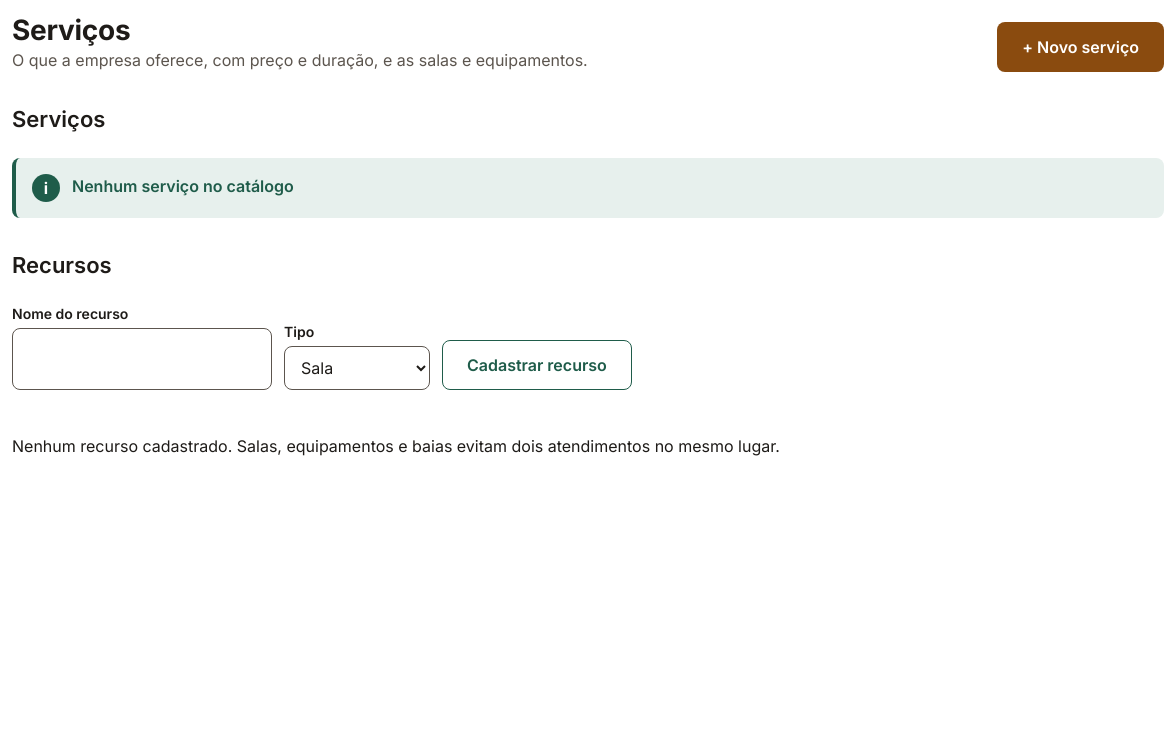
Scenario: UC-38 · Catálogo na web › CT-38-01: deve cadastrar o banho com preço e duração e deixá-lo ativo
Click the button "+ Novo serviço" at (1081, 47), box [997, 22, 1164, 72]
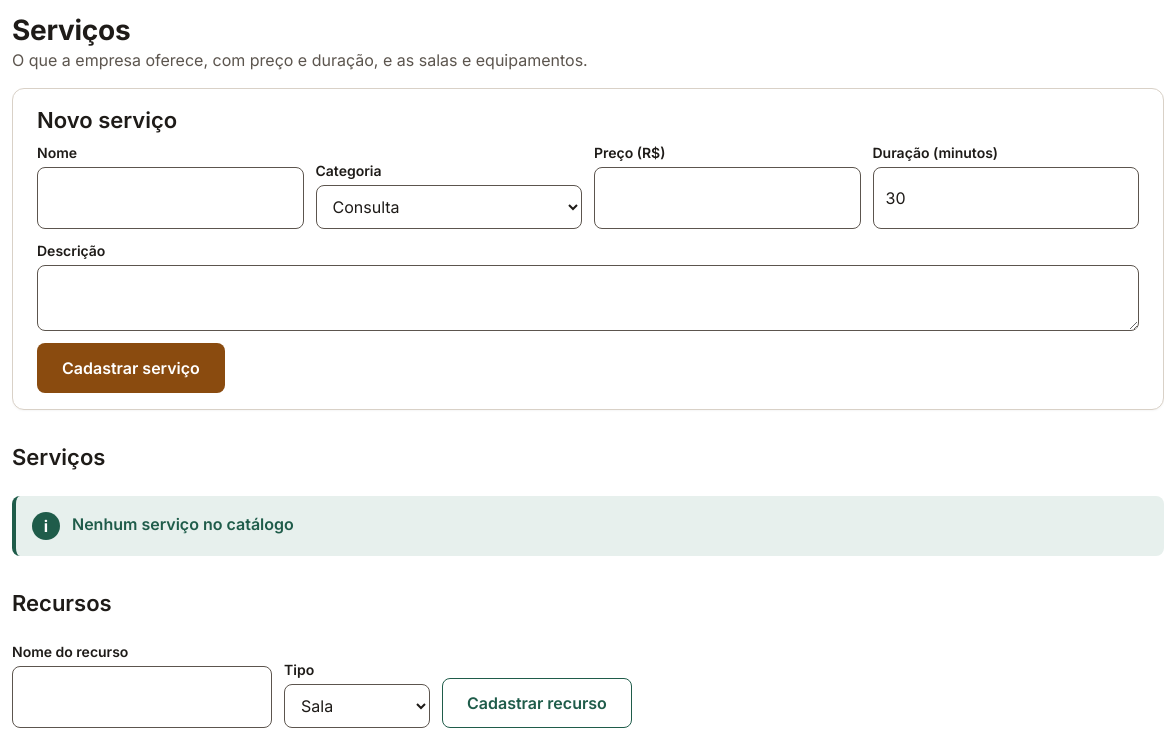
Expected: the text "Nenhum serviço no catálogo" is shown, [72, 512, 294, 536]
Type "Banho" into the field labelled "Nome" at (170, 198), box [37, 167, 304, 229]
Select "Banho e tosa" in the dropdown labelled "Categoria" at (449, 207), box [316, 185, 582, 229]
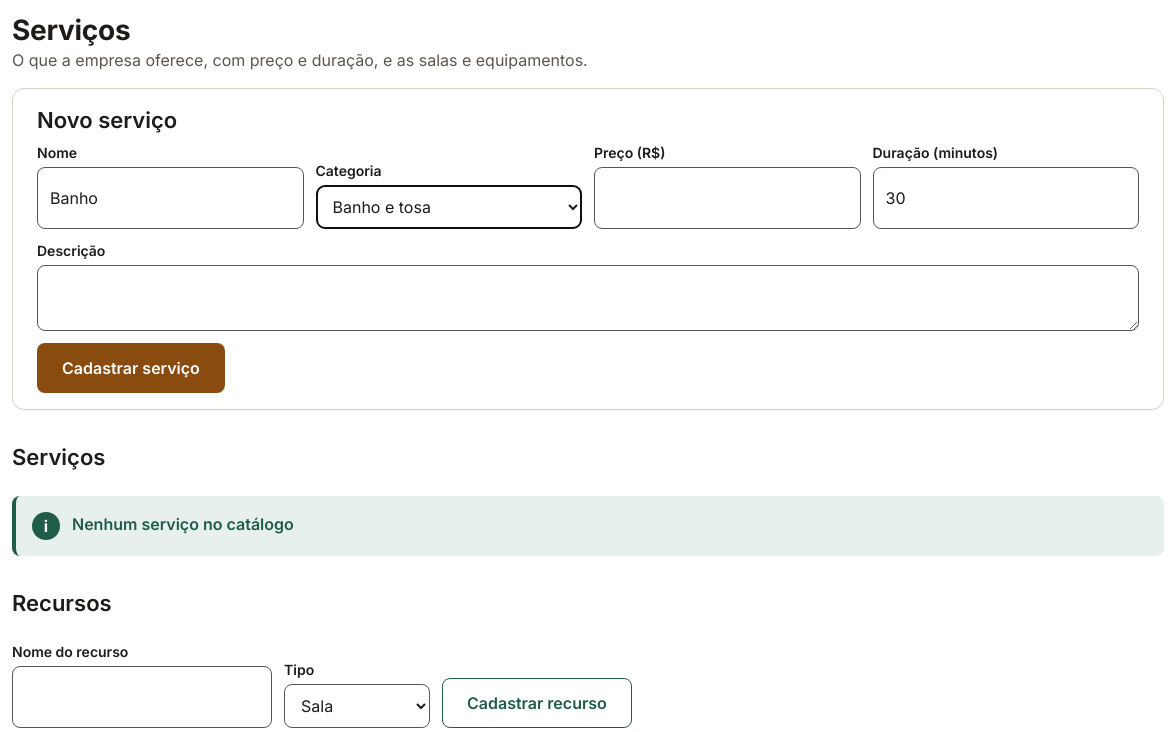
Type "60,00" into the field labelled "Preço (R$)" at (727, 198), box [594, 167, 860, 229]
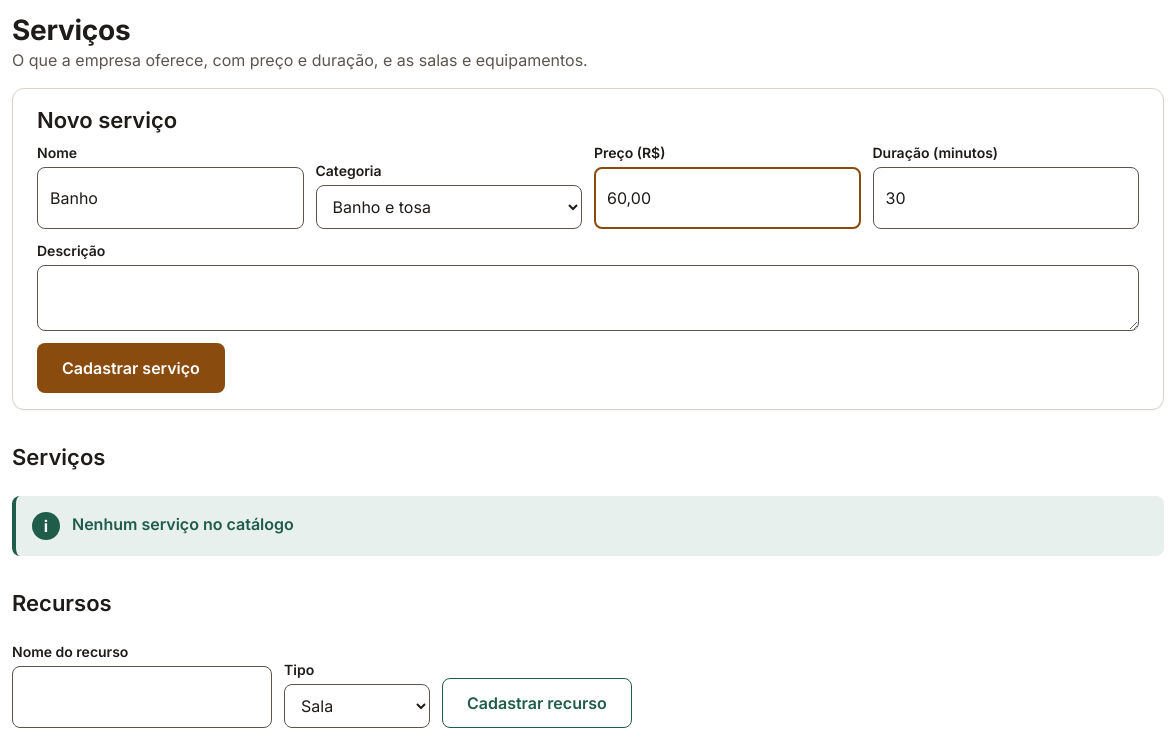
Replace the text in the number field labelled "Duração (minutos)" with "60" at (1006, 198), box [872, 167, 1139, 229]
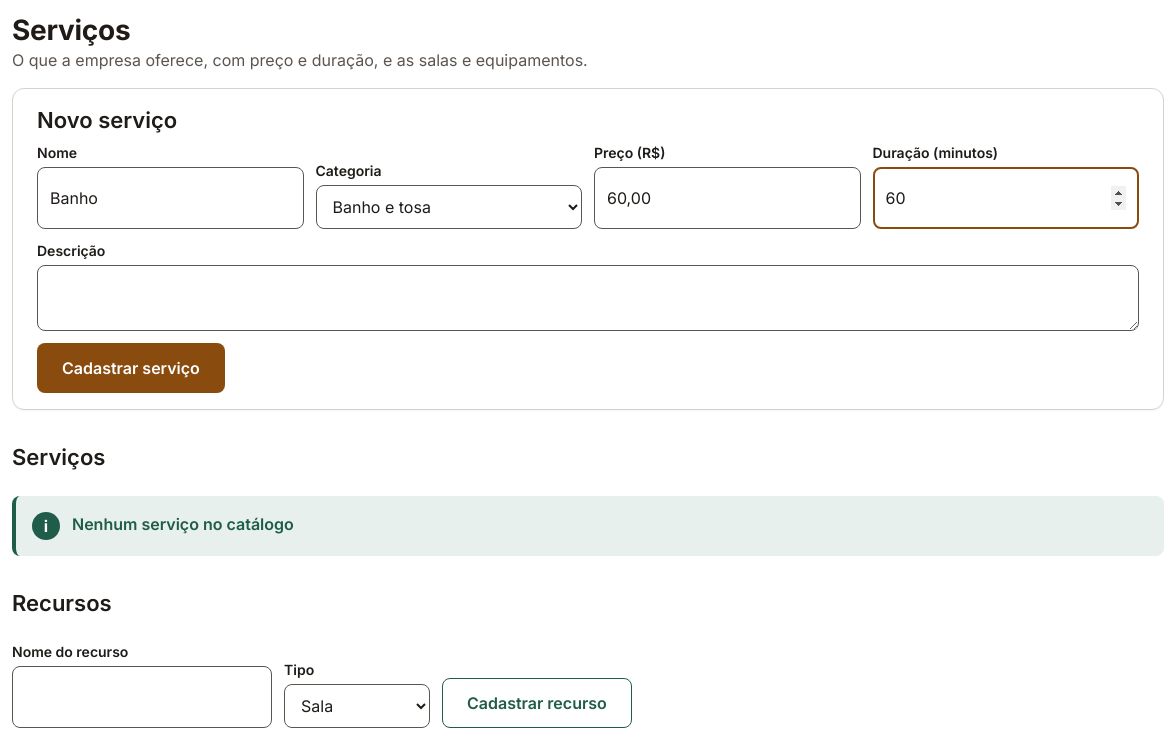
Type "Banho com secagem" into the text box labelled "Descrição" at (588, 298), box [37, 265, 1139, 331]
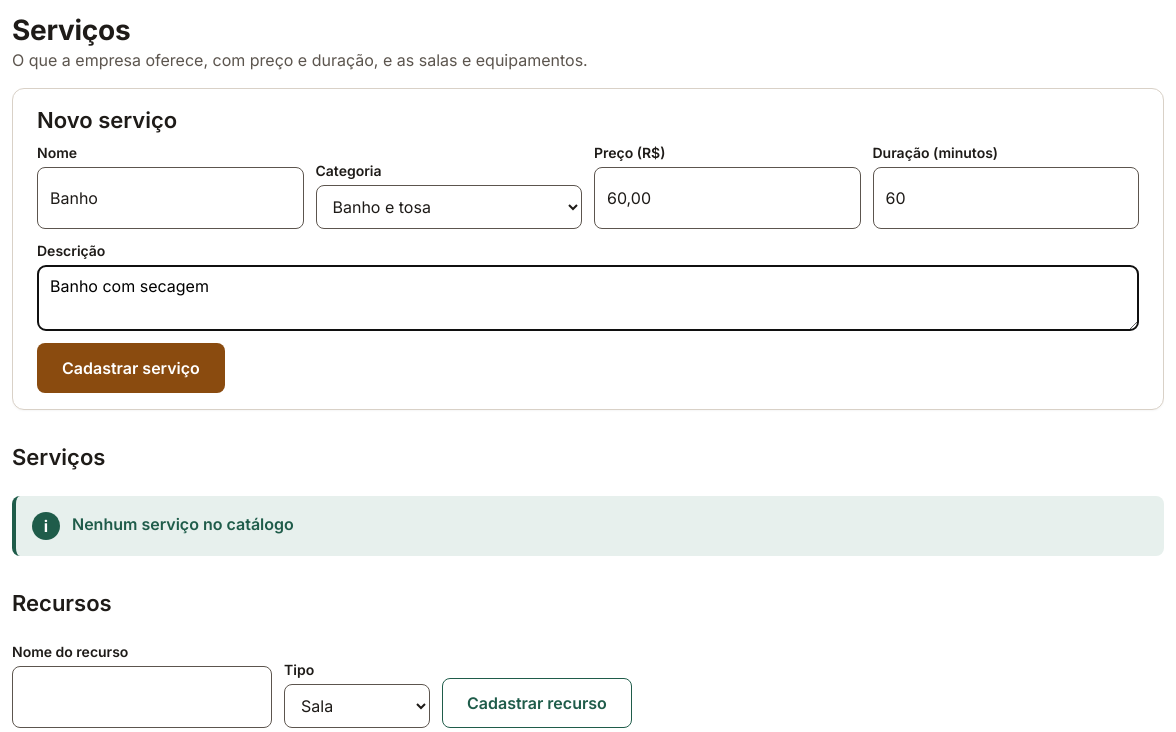
Click the button "Cadastrar serviço" at (131, 368), box [37, 343, 225, 393]
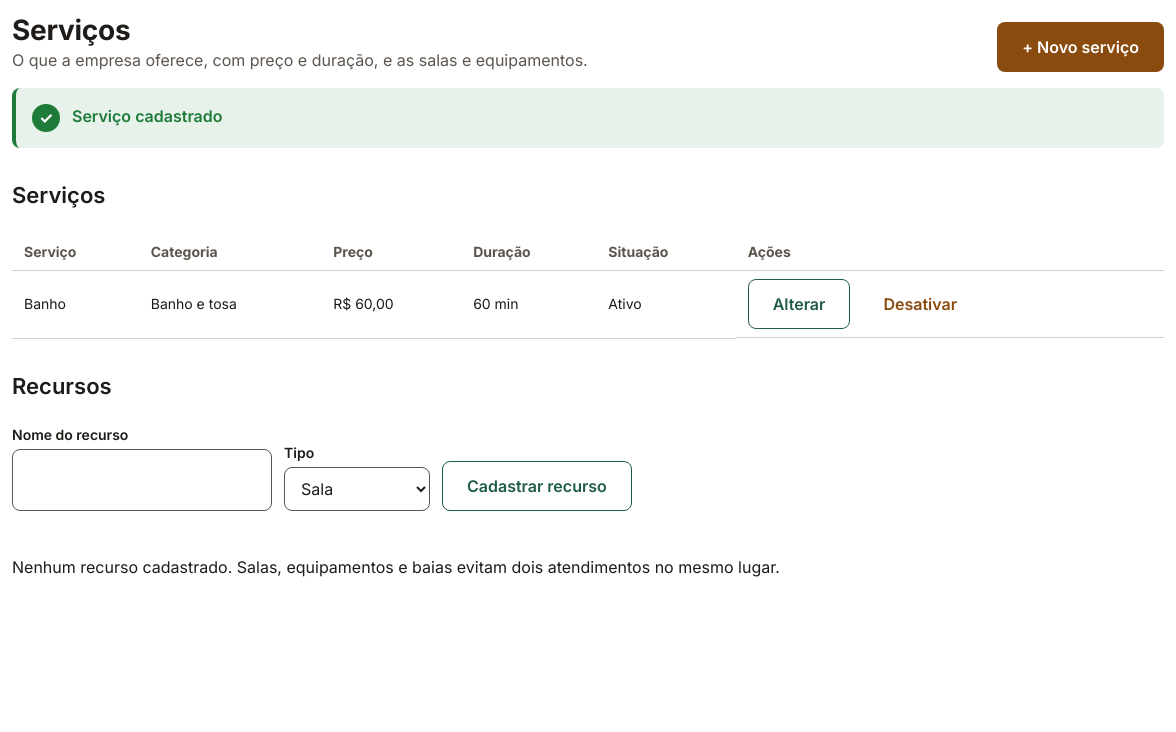
Expected: the text "Serviço cadastrado" is shown, [72, 104, 222, 128]
Expected: the text "Ativo" is shown, [596, 270, 736, 338]
Expected: the text "60 min" is shown, [461, 270, 596, 338]
